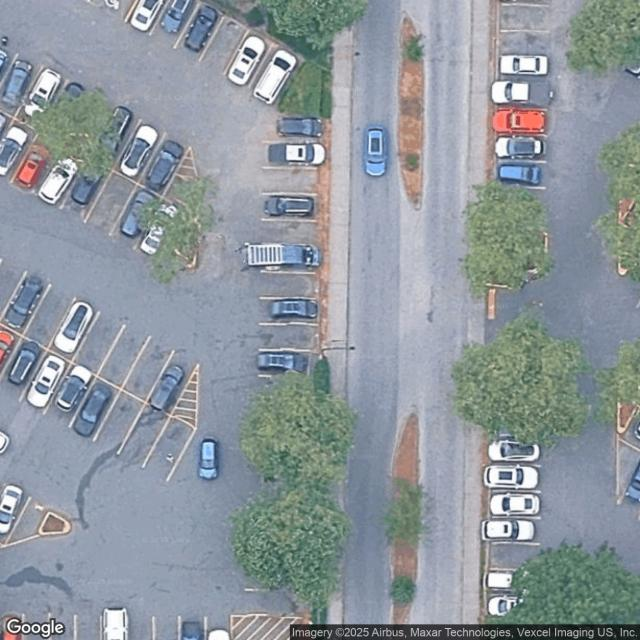car: (0, 269, 51, 334), (68, 379, 117, 444), (49, 296, 100, 358), (21, 348, 70, 412), (33, 145, 82, 207), (176, 0, 225, 62), (136, 198, 184, 261), (115, 119, 163, 181), (35, 146, 83, 208), (18, 65, 66, 126), (43, 78, 91, 139), (90, 103, 138, 164), (221, 30, 269, 91), (252, 44, 300, 105), (10, 136, 57, 196), (142, 136, 190, 193), (115, 186, 161, 243), (51, 362, 97, 419), (1, 335, 48, 390), (236, 241, 322, 271), (66, 153, 110, 210), (144, 359, 188, 416), (0, 121, 33, 180), (264, 142, 329, 168), (154, 0, 197, 39), (124, 0, 167, 36), (0, 482, 27, 539), (263, 195, 314, 219), (268, 298, 318, 322), (260, 352, 310, 376), (273, 115, 324, 138), (102, 604, 127, 640), (0, 326, 18, 371), (1, 613, 21, 640), (180, 619, 203, 640)
objects: (162, 148, 202, 265), (277, 60, 324, 117), (172, 366, 198, 427), (41, 514, 68, 534)
stall: (84, 170, 138, 235), (121, 338, 175, 403), (71, 310, 125, 375), (68, 376, 122, 441), (109, 184, 163, 249), (111, 117, 165, 182), (138, 131, 192, 196), (9, 129, 63, 194), (60, 91, 114, 156), (11, 66, 65, 131), (251, 44, 305, 109), (22, 285, 76, 349), (47, 298, 101, 362), (59, 158, 113, 222), (33, 142, 87, 206), (36, 78, 90, 142), (146, 351, 199, 416), (97, 324, 150, 389), (118, 403, 171, 468), (88, 104, 141, 169), (174, 0, 227, 65), (142, 416, 195, 480), (44, 363, 97, 427), (93, 390, 146, 454), (135, 198, 188, 262), (20, 350, 73, 414), (222, 28, 275, 92), (198, 13, 251, 77), (0, 273, 51, 336), (0, 335, 47, 401), (148, 0, 201, 50), (0, 54, 40, 117), (4, 495, 51, 546), (0, 484, 31, 548), (125, 0, 171, 37), (264, 167, 323, 194), (261, 246, 320, 273), (260, 298, 319, 325), (259, 351, 318, 378), (264, 114, 323, 141), (263, 193, 322, 220), (262, 220, 321, 246), (261, 273, 320, 299), (259, 324, 318, 350), (264, 142, 323, 168), (0, 321, 20, 378), (75, 616, 101, 640), (50, 616, 76, 640), (179, 616, 204, 640), (206, 616, 231, 640), (24, 616, 49, 640), (0, 616, 25, 640), (128, 616, 153, 640), (155, 616, 180, 640), (102, 616, 127, 640)
